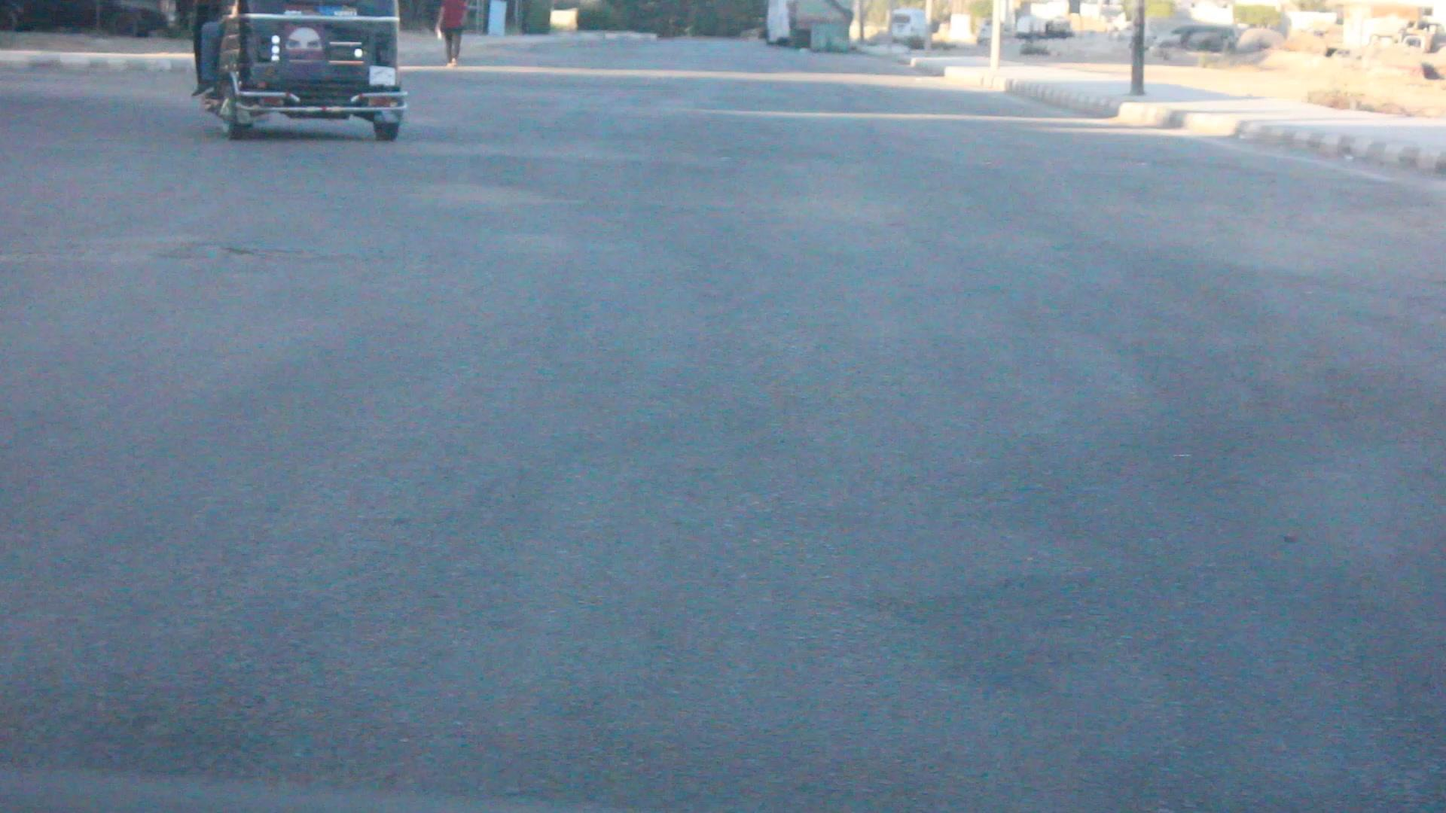Bump: (4, 113, 1344, 190)
